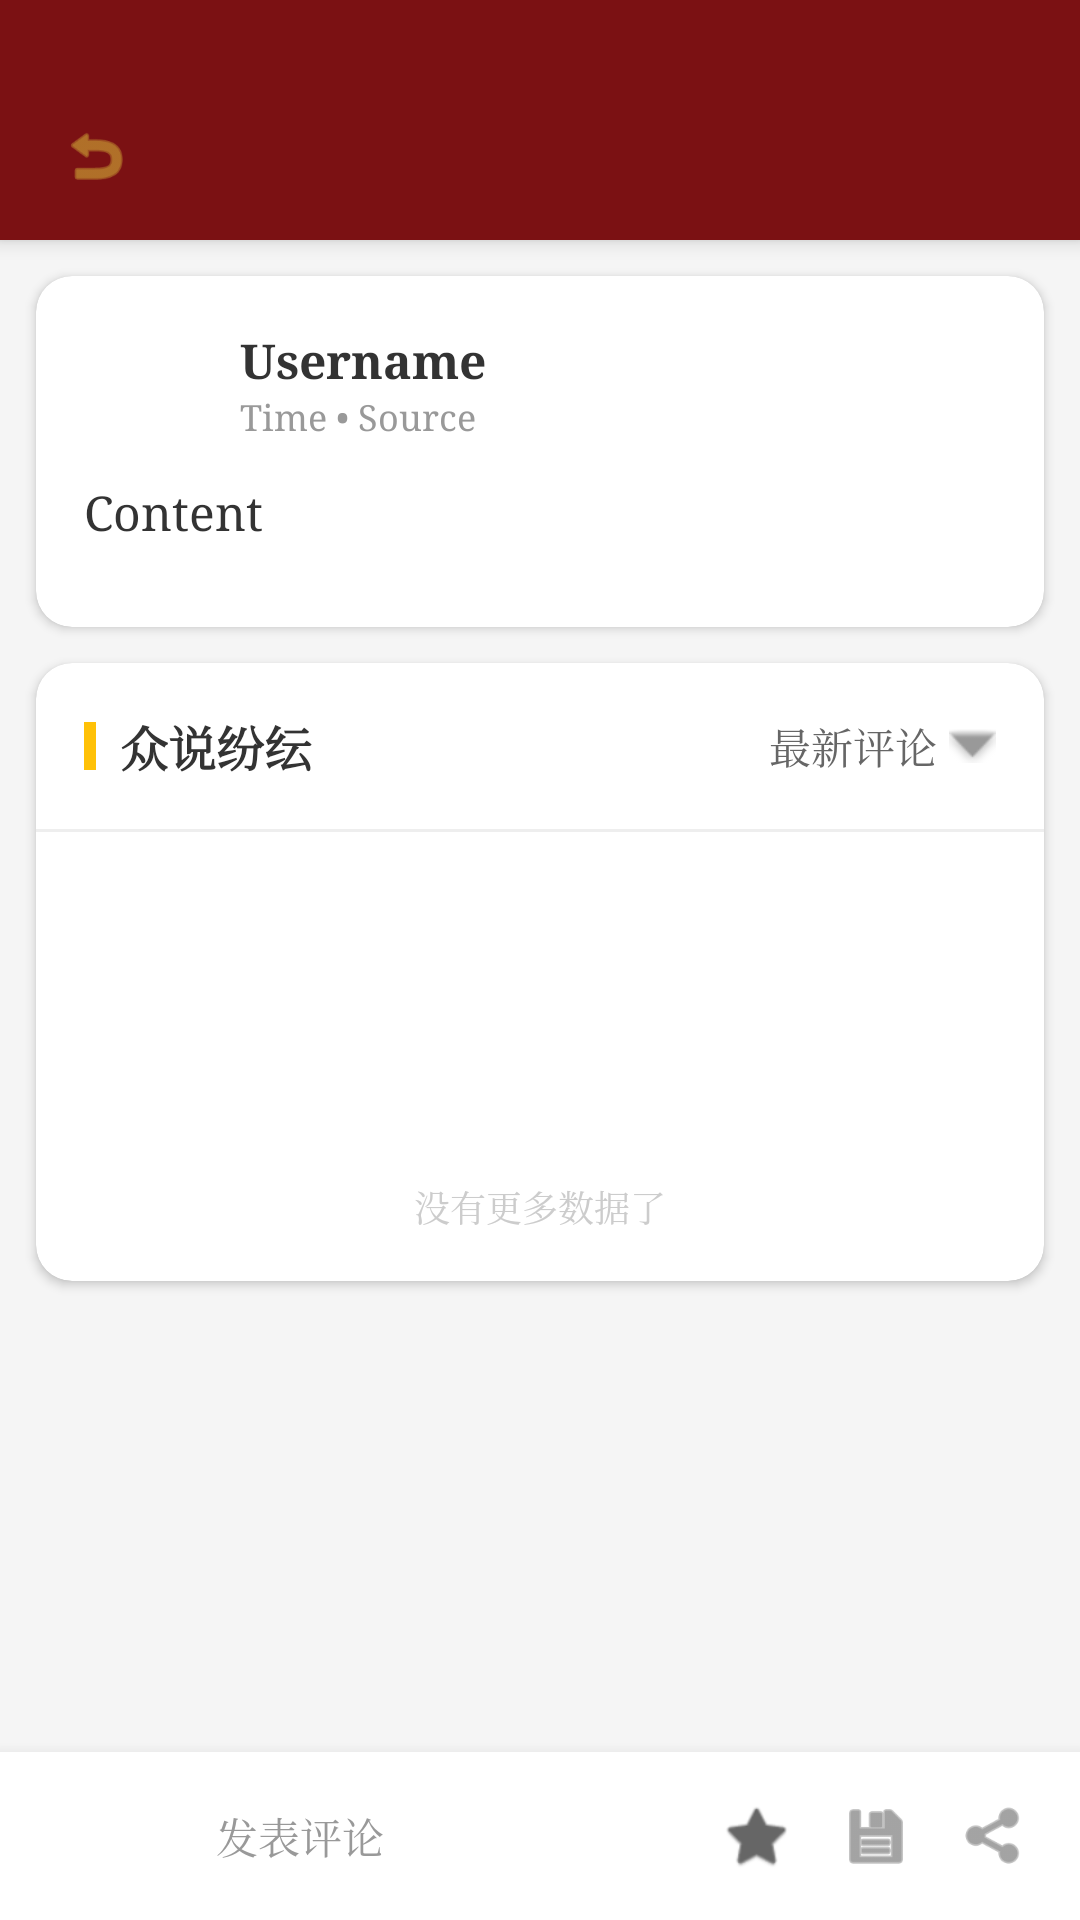

Where icons sit on this 1080w x 1920h app screen, as (x1, y1, x2, y2):
revert: (71, 133, 123, 180)
save: (849, 1809, 903, 1864)
share: (965, 1808, 1019, 1864)
